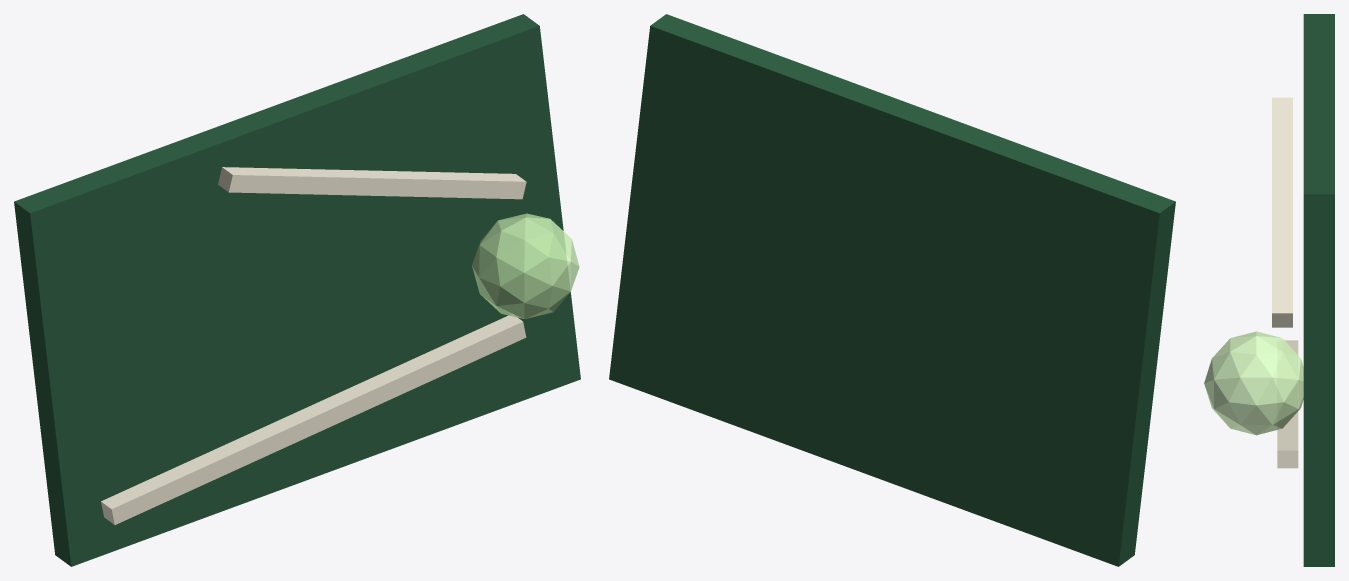
File: 02_world_prop_polish.glb
3 views of the same model, side by side, from view 1: azimuth 30°, elevation 25°; view 2: azimuth 150°, elevation 25°; view 3: azimuth 270°, elevation 25° (orthographic). The views are drawn at different scales.
Parts seen in each view (by area): view 1: object_overlay_plate, edge_wear_a, glow_socket, edge_wear_b; view 2: object_overlay_plate; view 3: object_overlay_plate, glow_socket, edge_wear_b, edge_wear_a.
Part boxes in pixels (x1=…): object_overlay_plate: x1=14, y1=14, x2=580, y2=566; edge_wear_a: x1=101, y1=314, x2=526, y2=524; glow_socket: x1=472, y1=213, x2=579, y2=318; edge_wear_b: x1=218, y1=167, x2=526, y2=199; object_overlay_plate: x1=609, y1=14, x2=1175, y2=566; object_overlay_plate: x1=1303, y1=14, x2=1334, y2=566; glow_socket: x1=1204, y1=331, x2=1303, y2=435; edge_wear_b: x1=1272, y1=97, x2=1292, y2=327; edge_wear_a: x1=1277, y1=340, x2=1298, y2=468.
Size of the model in its own units: 1.18 by 0.8743 by 0.25.
